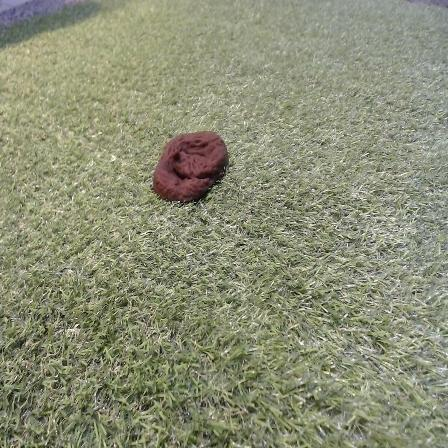dog-poop: (150, 121, 233, 201)
